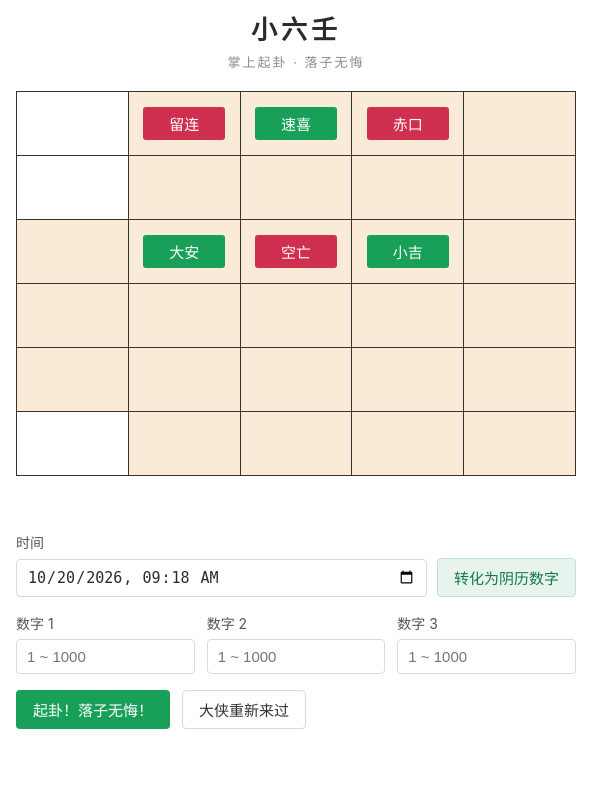
XiaoLiuRen › 第二个数从第一个落宫接着数，而不是从大安重来
Type "2" into the number field labelled "数字 1" at (105, 656), box [16,639,195,674]
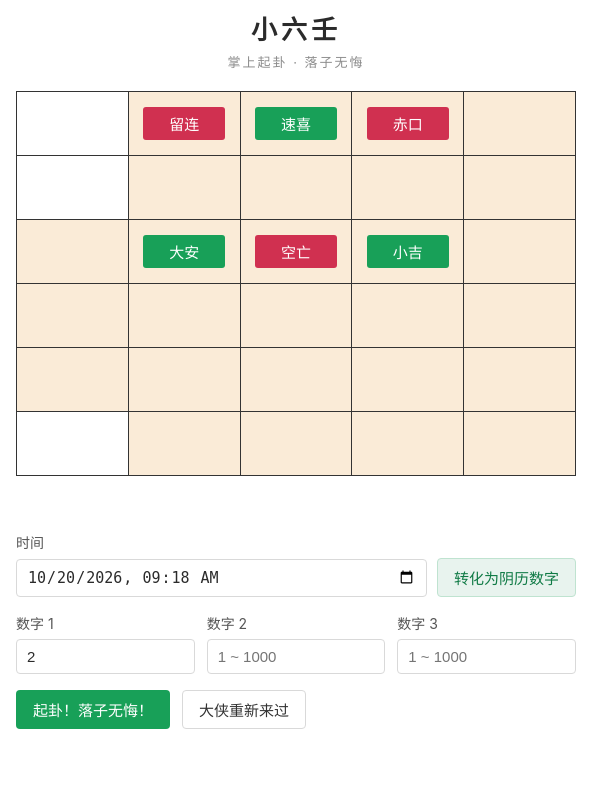
Type "3" into the number field labelled "数字 2" at (296, 656), box [207,639,385,674]
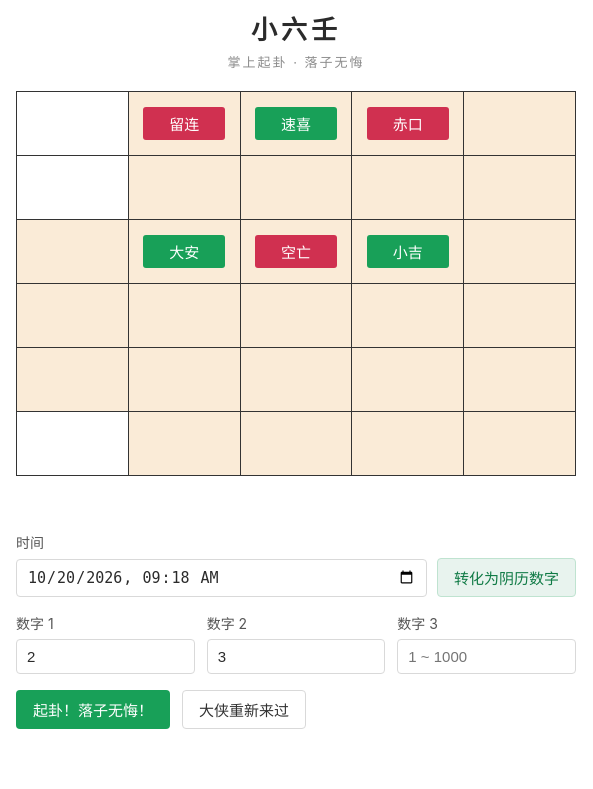
Type "5" into the number field labelled "数字 3" at (487, 656), box [397,639,576,674]
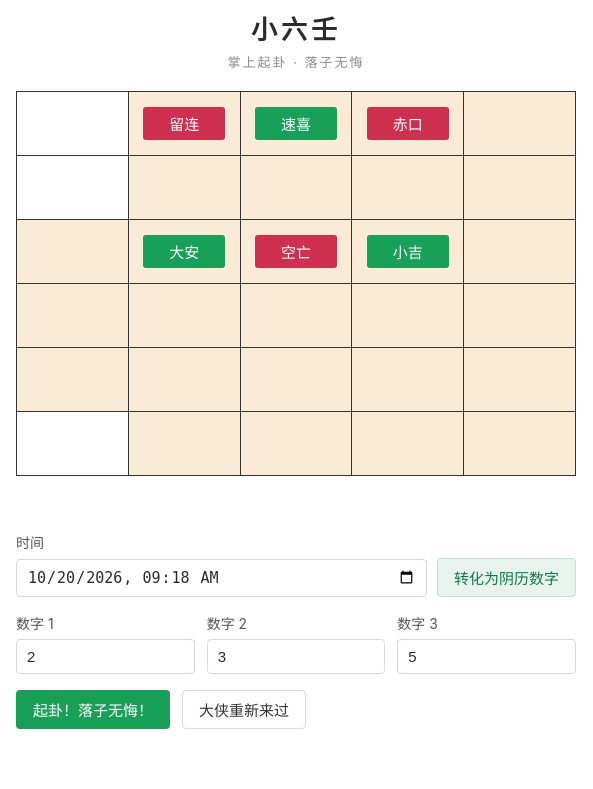
Submit the form, box [16,532,576,729]
Wait 5000 ms
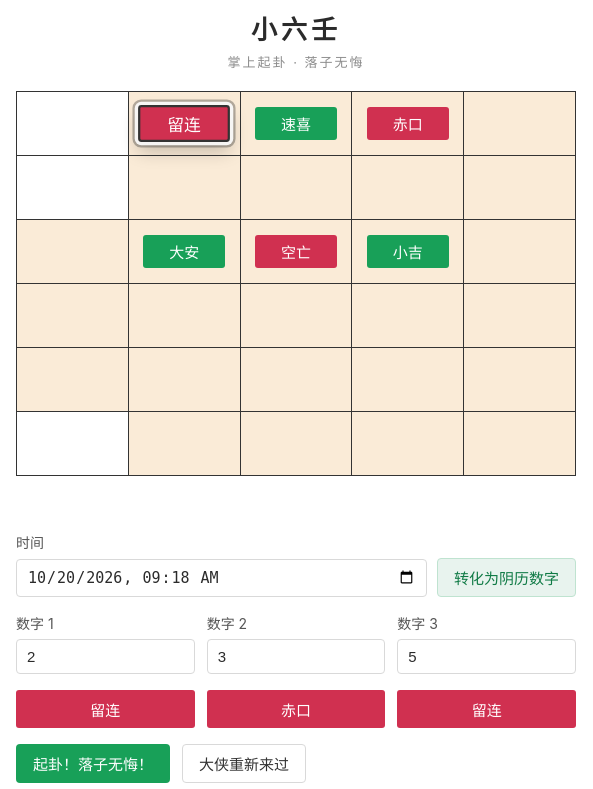
Expected: the elements with class "result" read "留连", "赤口", "留连", in this order, [16,690,195,728]; [207,690,385,728]; [397,690,576,728]
